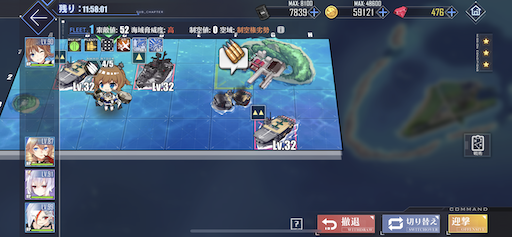lv1: (133, 51, 176, 94)
lv2: (249, 103, 301, 152)
